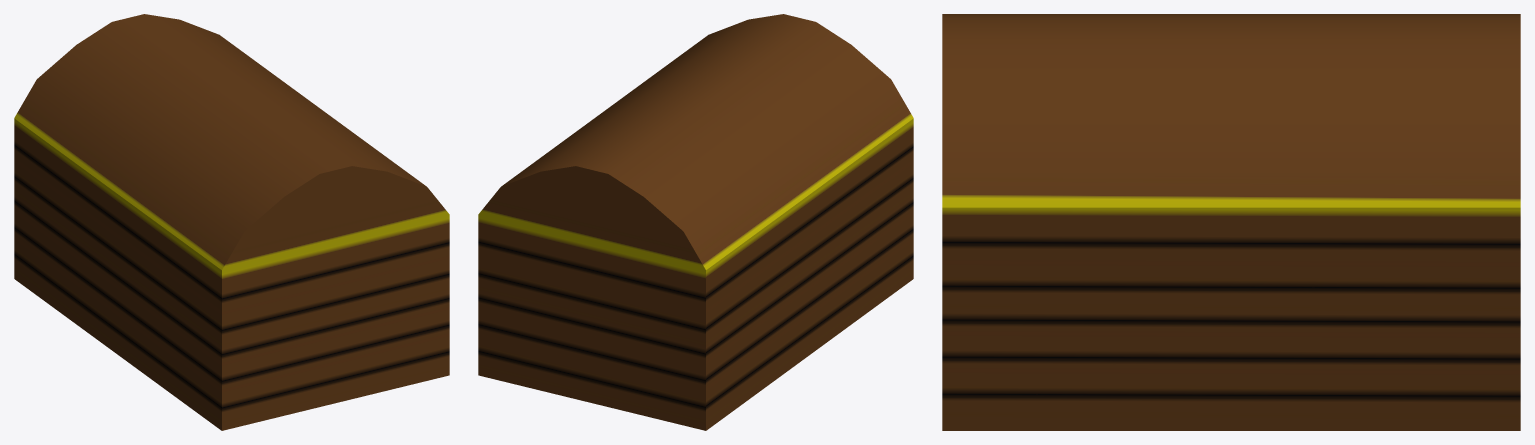
The model's file is chest.fbx.
3 renders of one model, left to right at view 1: azimuth 30°, elevation 25°; view 2: azimuth 150°, elevation 25°; view 3: azimuth 270°, elevation 25°, orthographic. The views are drawn at different scales.
Visible parts, largest first — view 1: pCube1; view 2: pCube1; view 3: pCube1.
Boxes of the visible parts, left/top/right/bottom form: pCube1: left=14, top=14, right=449, bottom=430; pCube1: left=478, top=14, right=913, bottom=430; pCube1: left=942, top=14, right=1520, bottom=430.
Bounding box in the file's own units: 5.15 × 5.03 × 8.13.
